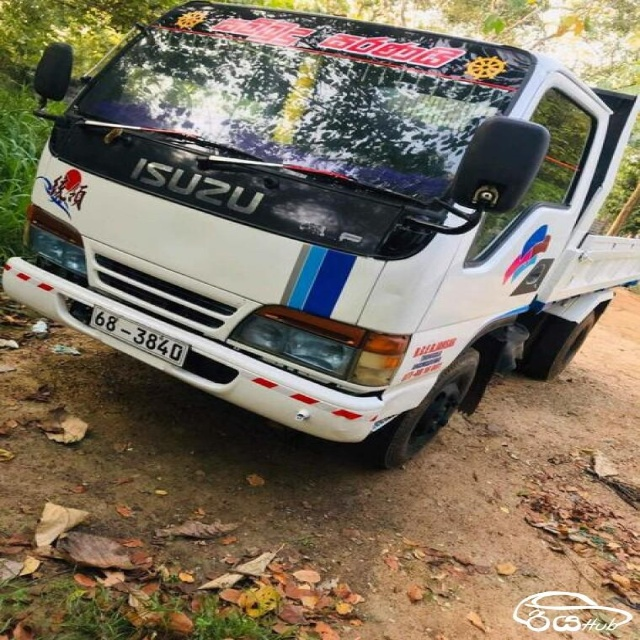Truck: (2, 1, 640, 470)
